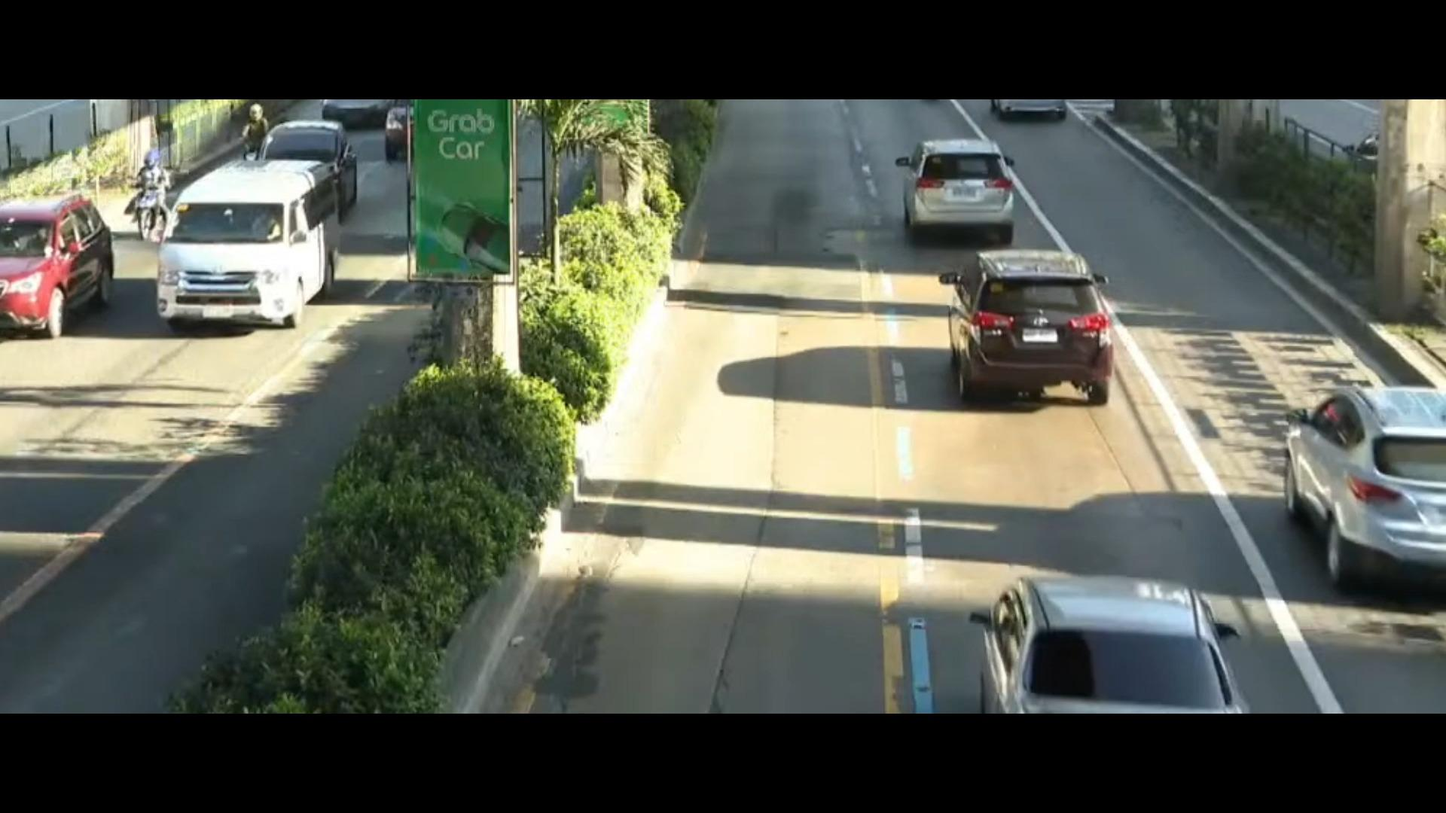Motorcycle: (125, 143, 177, 235)
SUV: (1247, 341, 1446, 619), (953, 552, 1256, 718), (937, 239, 1123, 417), (867, 125, 1051, 252), (0, 192, 123, 344), (262, 119, 361, 208)
Van: (141, 157, 352, 342)
